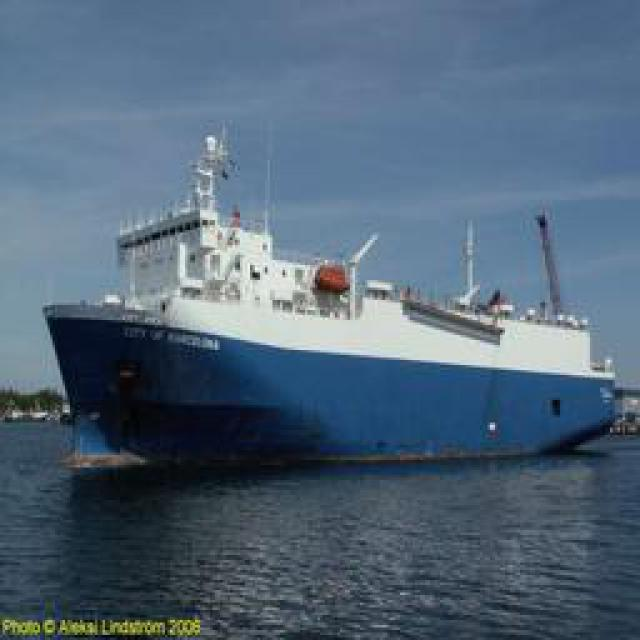Ship: (40, 126, 618, 464)
